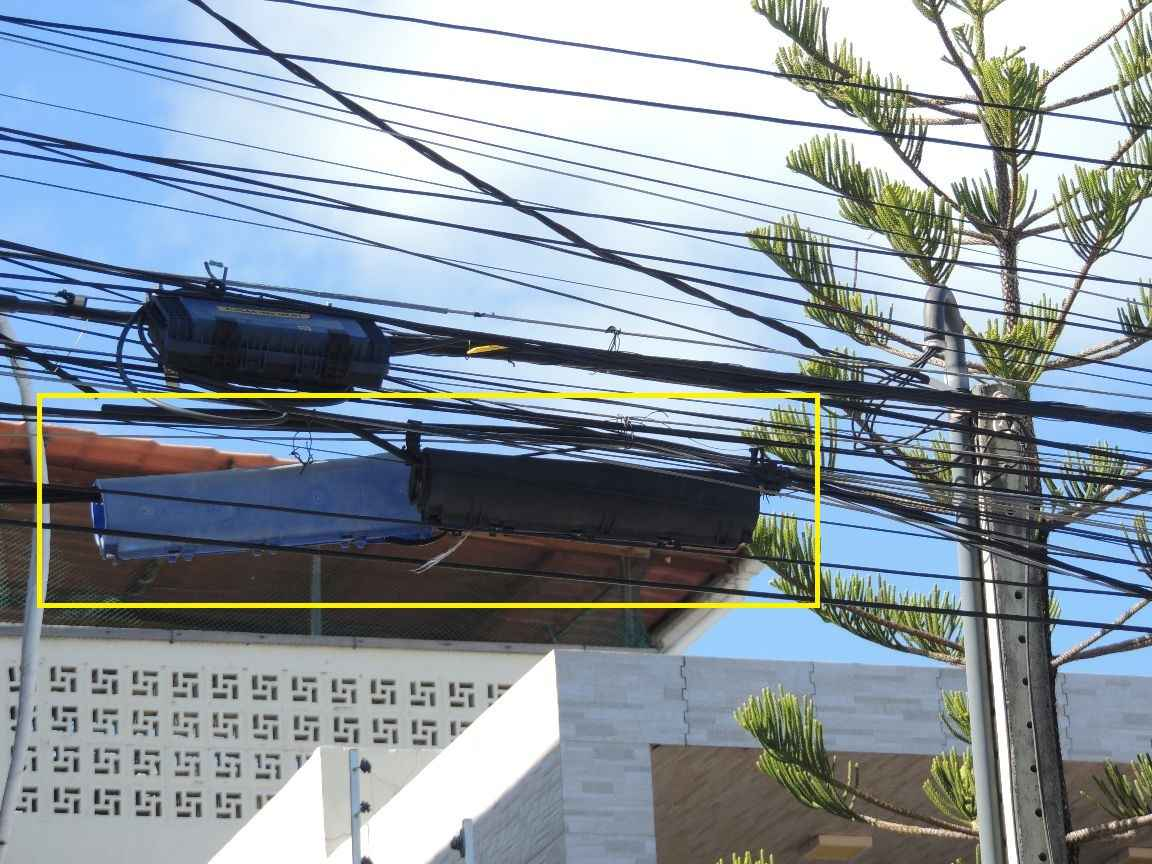18: (395, 430, 771, 552), (78, 449, 455, 559)
caixa_derivacao: (130, 269, 392, 380)
fibra_optica: (449, 317, 609, 377)
poste: (974, 380, 1068, 864)
